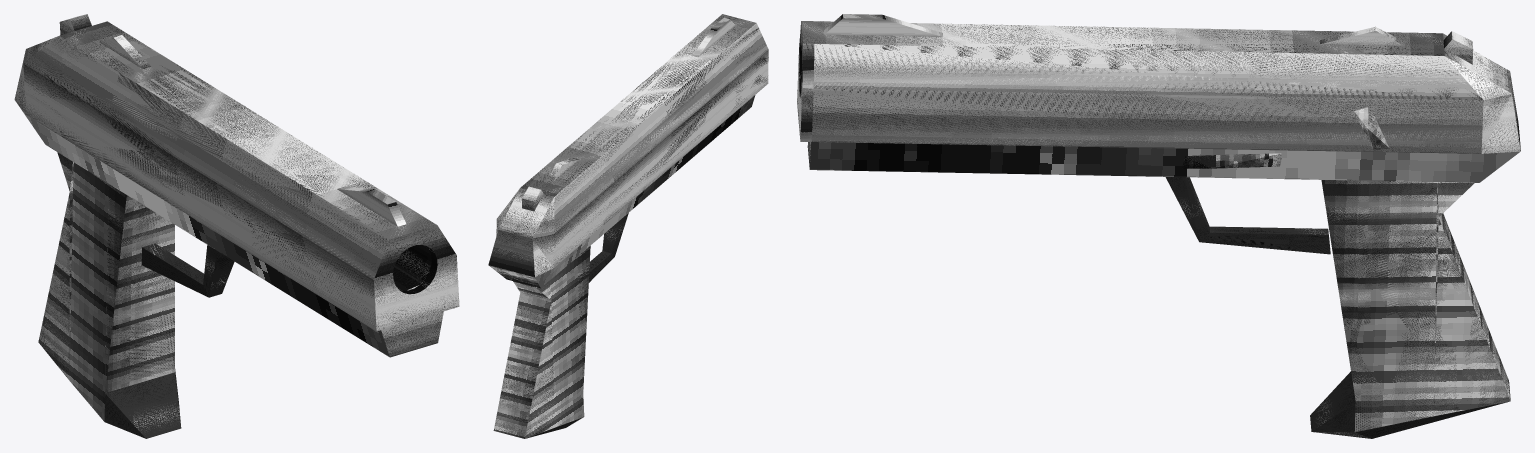
3 views of the same model, side by side, from view 1: azimuth 30°, elevation 25°; view 2: azimuth 150°, elevation 25°; view 3: azimuth 270°, elevation 25° (orthographic). The views are drawn at different scales.
Parts seen in each view (by area): view 1: SketchUp (×11); view 2: SketchUp (×9); view 3: SketchUp (×11).
Part boxes in pixels (left/top/right/bottom): SketchUp (×11): left=14, top=14, right=459, bottom=438; SketchUp (×9): left=488, top=14, right=768, bottom=438; SketchUp (×11): left=797, top=14, right=1520, bottom=438.
Size of the model in its own units: 1.37 by 7.97 by 5.04.
Materials: 12 (12 with a texture image).
